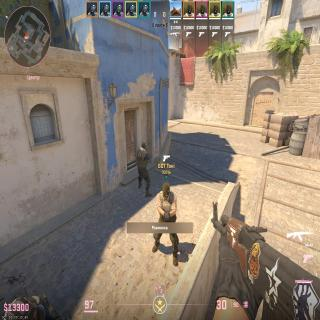CT-Body: (4, 292, 63, 320), (136, 141, 150, 197)
CT-Head: (7, 296, 36, 320), (141, 142, 147, 150)
T-Body: (154, 182, 178, 261)
T-Head: (163, 182, 170, 197)
